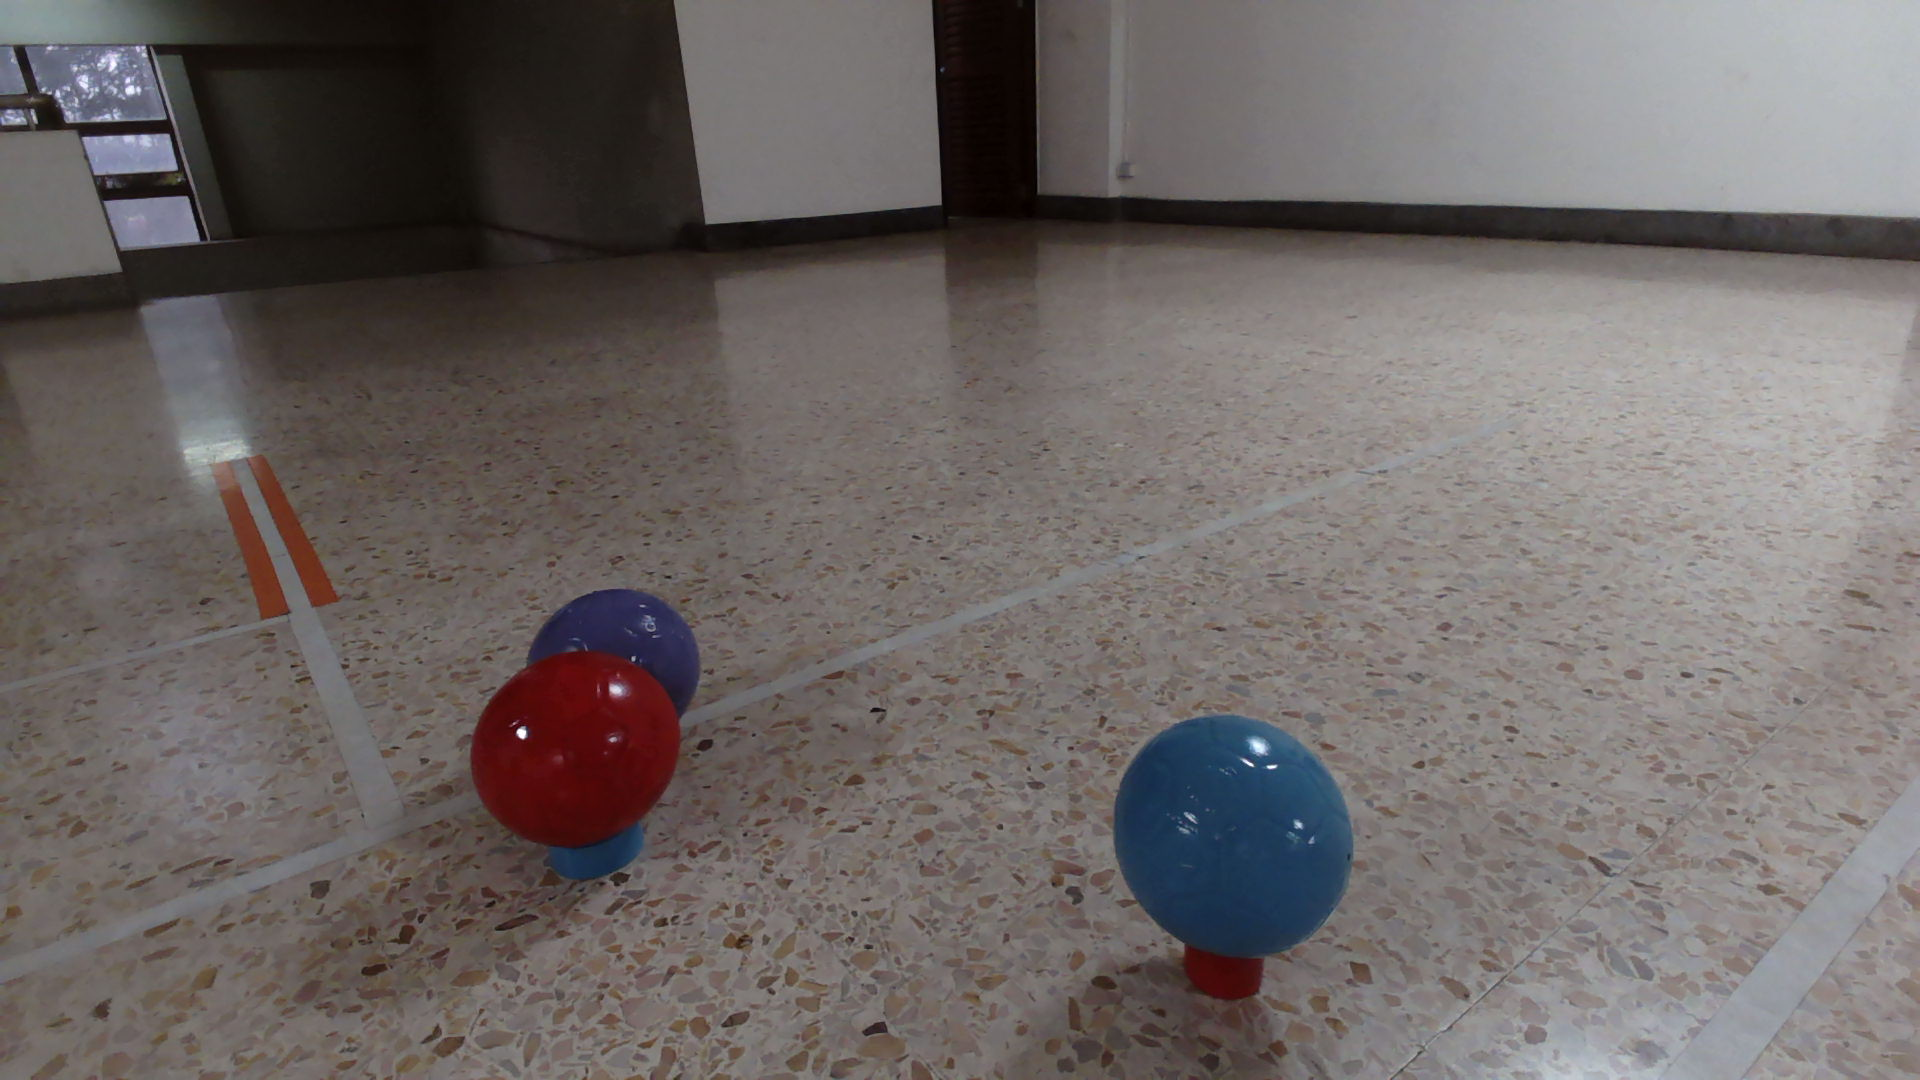Blue ball: (1110, 713, 1356, 961)
Purple ball: (524, 585, 703, 698)
Red ball: (467, 647, 683, 848)
